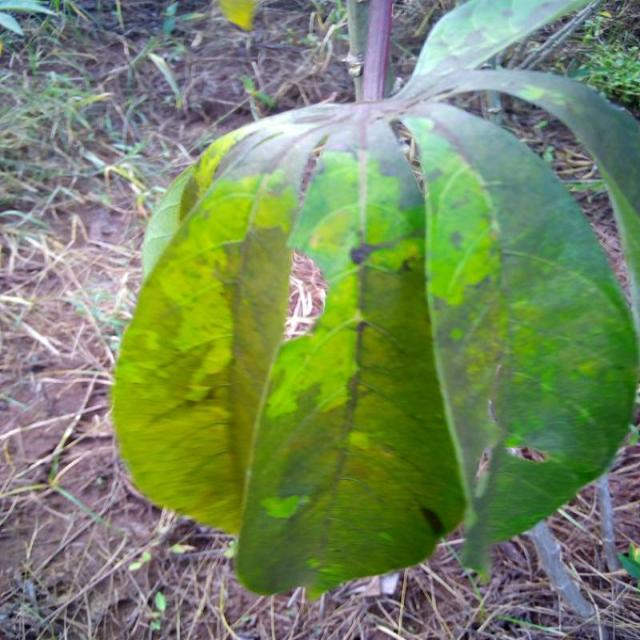cassava leaf: (109, 1, 638, 602), (397, 97, 638, 582)
